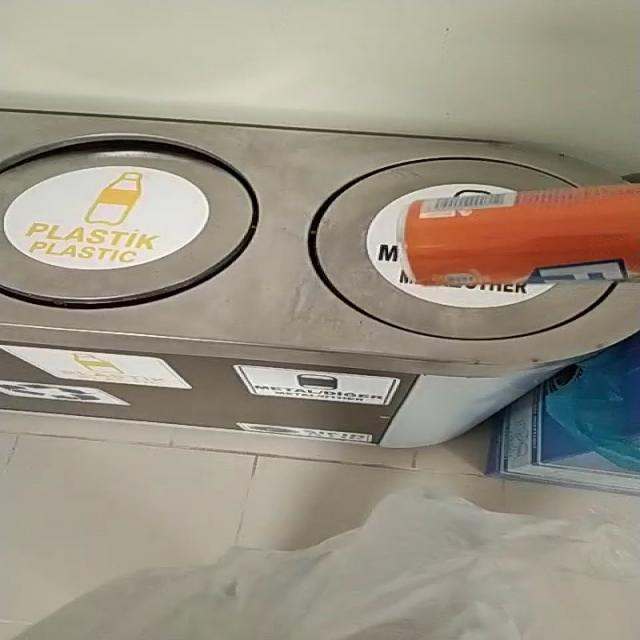Bin: (0, 111, 639, 446)
Metal: (404, 186, 640, 285)
